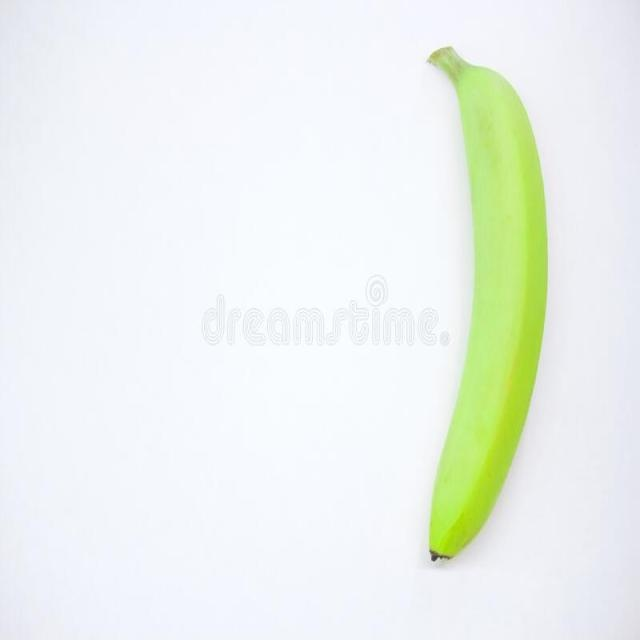agrume: (424, 42, 551, 563)
